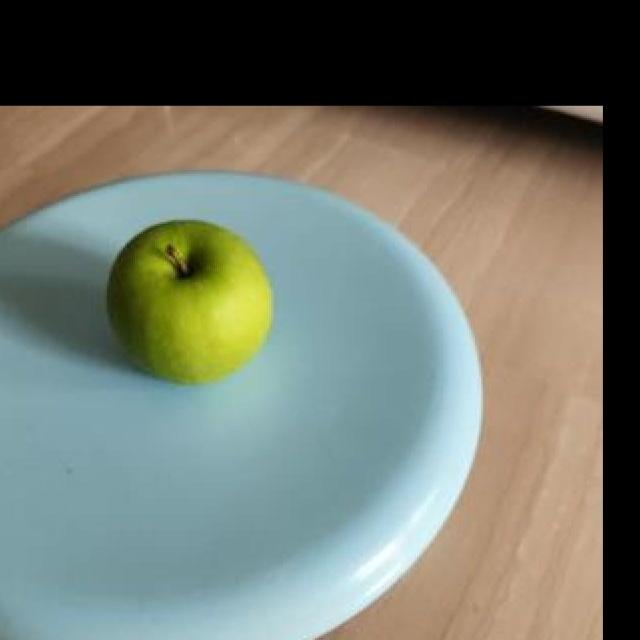green apple: (103, 218, 274, 383)
